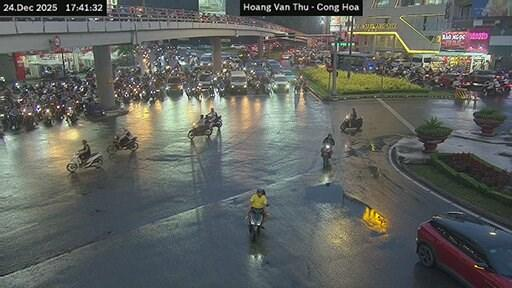motorbike: (66, 152, 102, 171), (106, 135, 137, 153), (249, 207, 262, 239), (186, 122, 211, 138), (339, 113, 361, 130), (320, 144, 330, 166), (64, 107, 76, 124), (205, 115, 221, 127), (42, 109, 53, 125)
